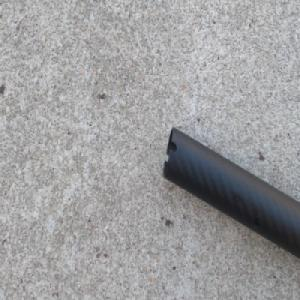LuggagePart: (161, 126, 300, 264)
